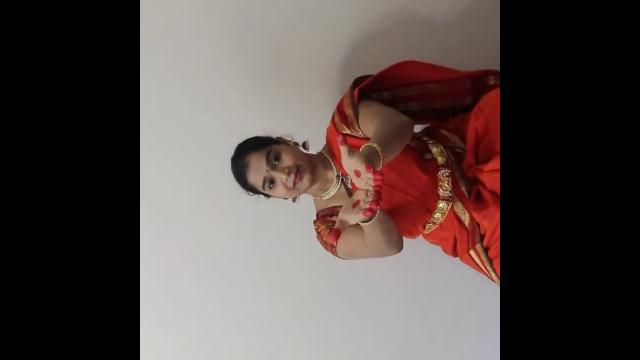ardhachandra: (314, 126, 386, 194), (322, 188, 388, 254)
